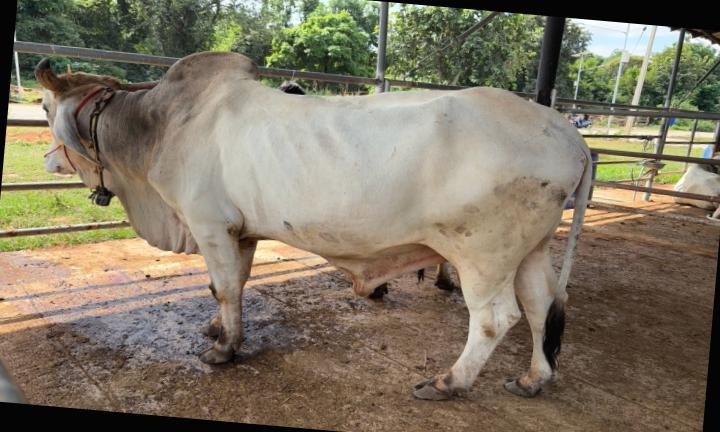Brahman: (35, 51, 591, 398)
